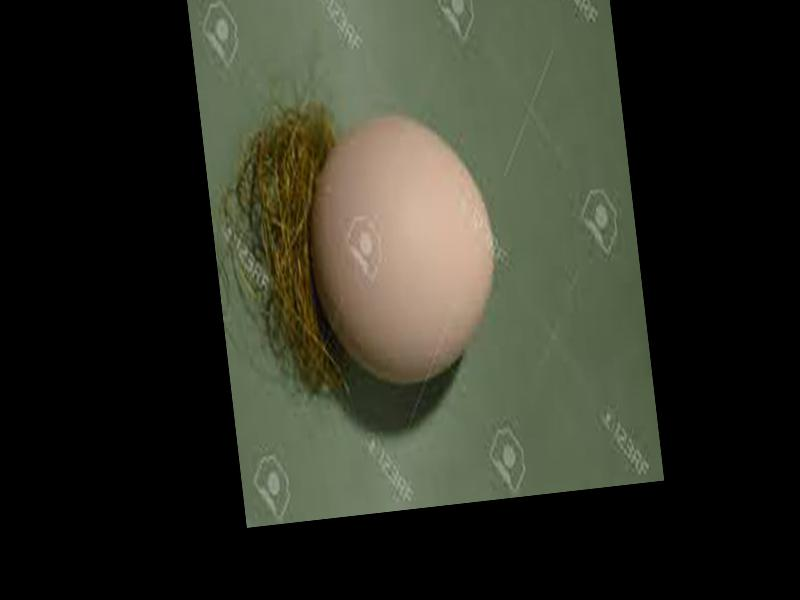Eggs: (299, 107, 509, 392)
